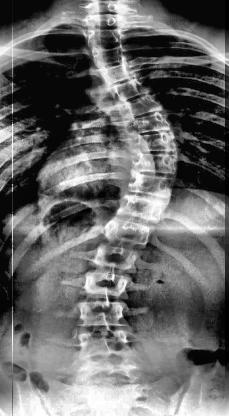Vertebrae: (100, 216, 156, 250), (76, 328, 132, 360), (81, 268, 131, 300), (92, 241, 140, 273), (117, 192, 165, 223), (128, 169, 176, 199), (78, 300, 128, 328), (128, 149, 178, 175), (126, 131, 180, 155), (124, 112, 171, 134), (121, 96, 166, 118), (95, 61, 134, 85), (84, 11, 126, 33), (112, 79, 150, 103), (84, 29, 126, 50), (88, 46, 128, 68)
